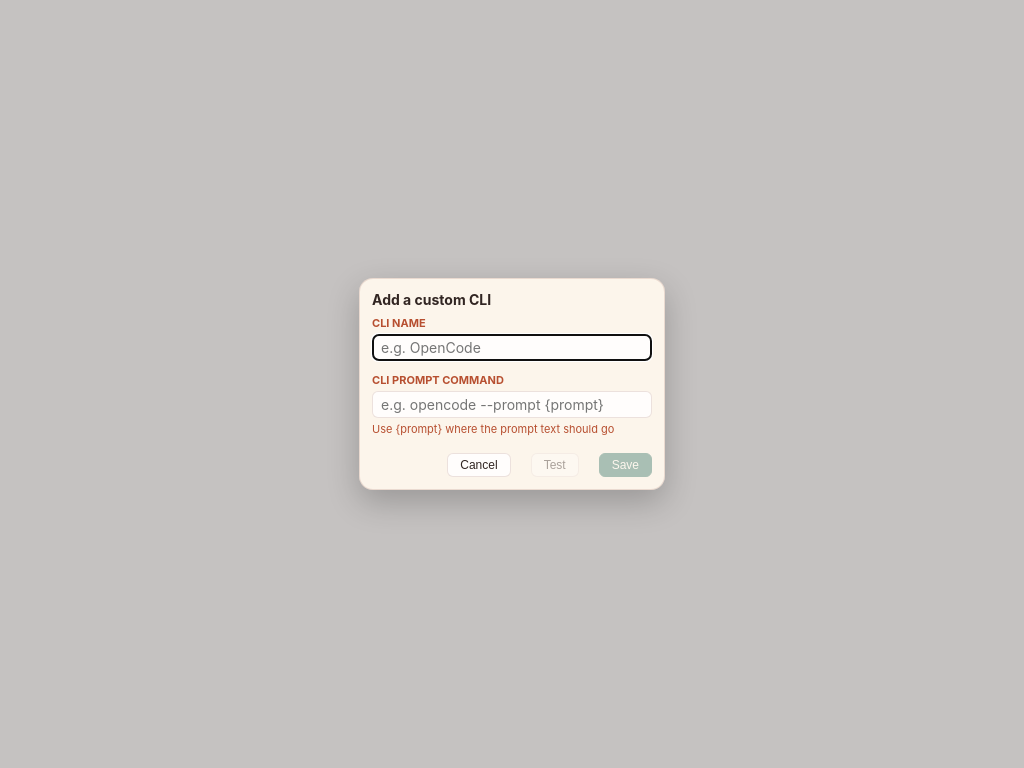
Test case: AddCliDialog › shows the not-ready message and re-enables buttons after a failed test
Type "Mine" into the field labelled "CLI name" at {"x": 512, "y": 347}, box [372,334,652,361]
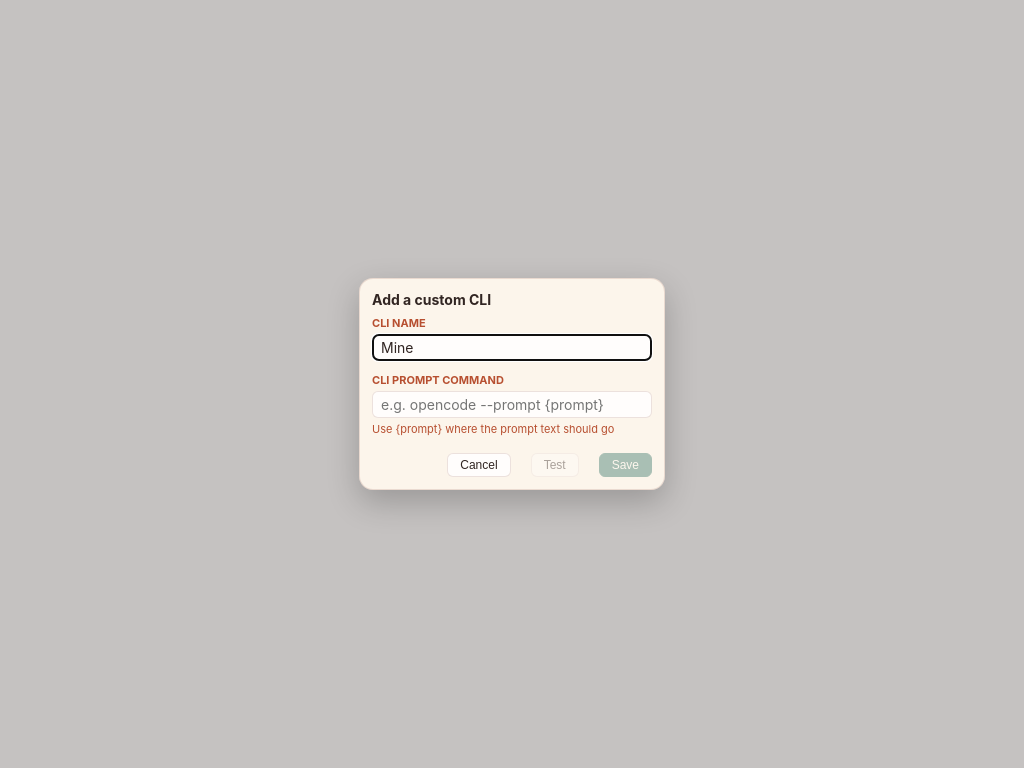
Type "nonexistent-cli" into the field labelled "CLI Prompt Command" at {"x": 512, "y": 404}, box [372,391,652,418]
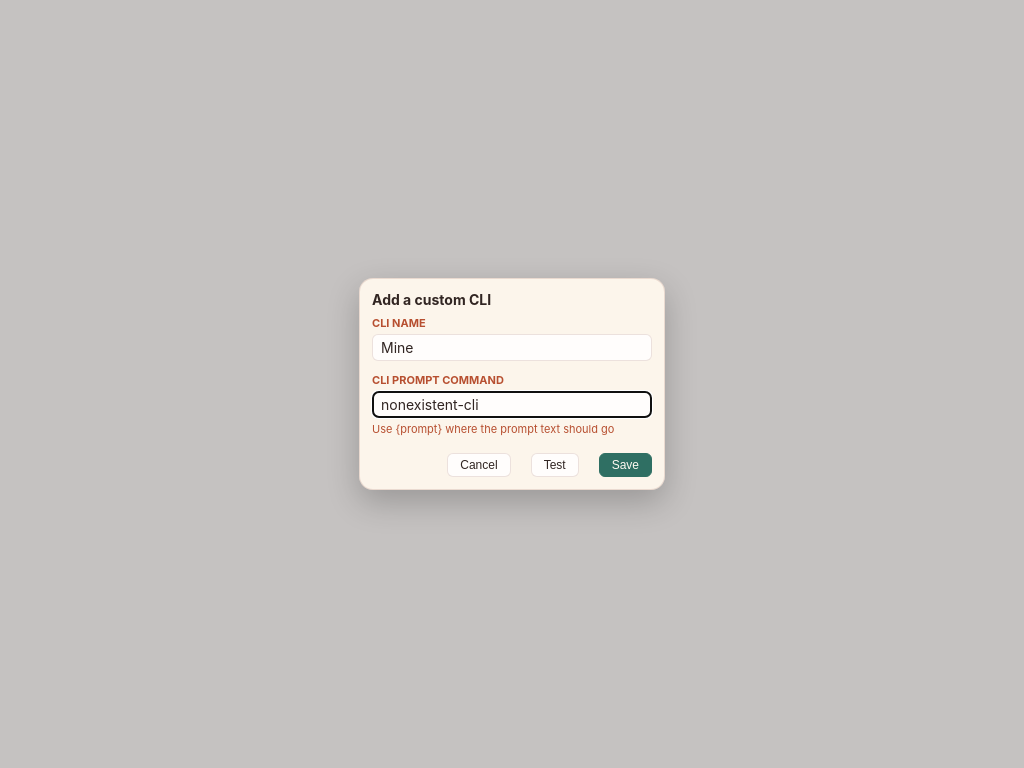
Click the button "Test" at {"x": 555, "y": 465}, box [531,453,579,477]
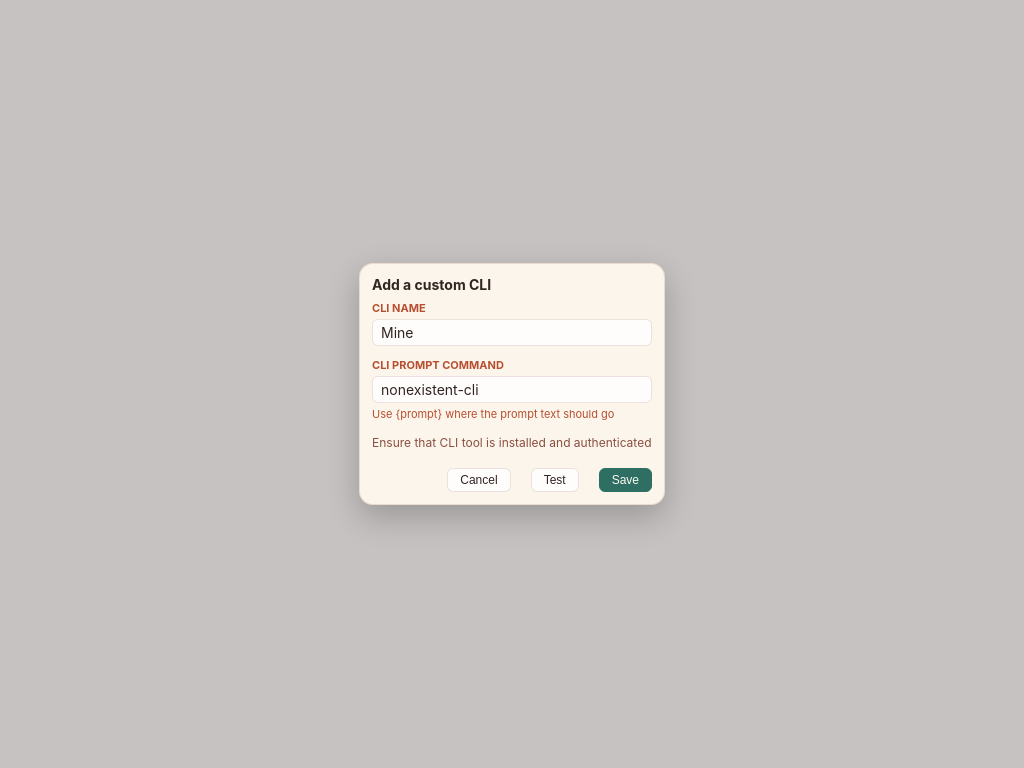
expect the button "Test" is enabled: met, box [531,468,579,492]
expect the button "Save" is enabled: met, box [599,468,652,492]
expect the text "Ensure that CLI tool is installed and authenticated" is shown: met, box [372,435,652,452]
